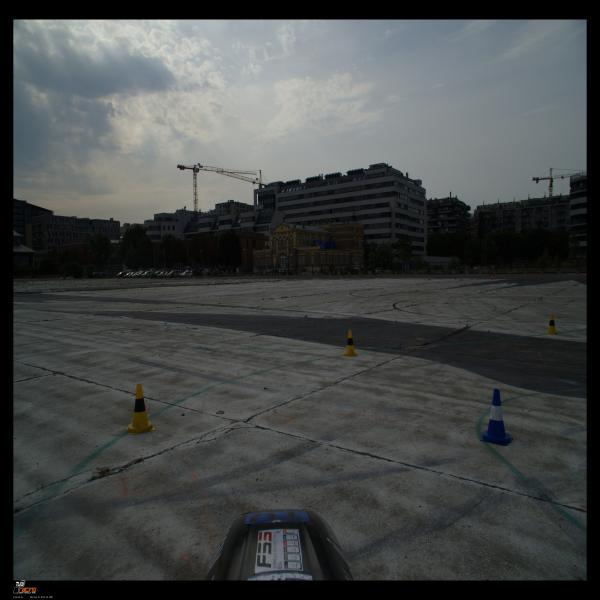blue_cone: (480, 389, 514, 447)
orange_cone: (460, 276, 463, 281), (540, 274, 542, 280), (577, 276, 580, 280), (532, 275, 534, 280), (491, 275, 493, 280), (454, 275, 456, 280), (494, 275, 496, 279), (428, 276, 430, 280)
yellow_cone: (126, 383, 155, 435), (341, 329, 360, 357), (545, 314, 559, 334)
